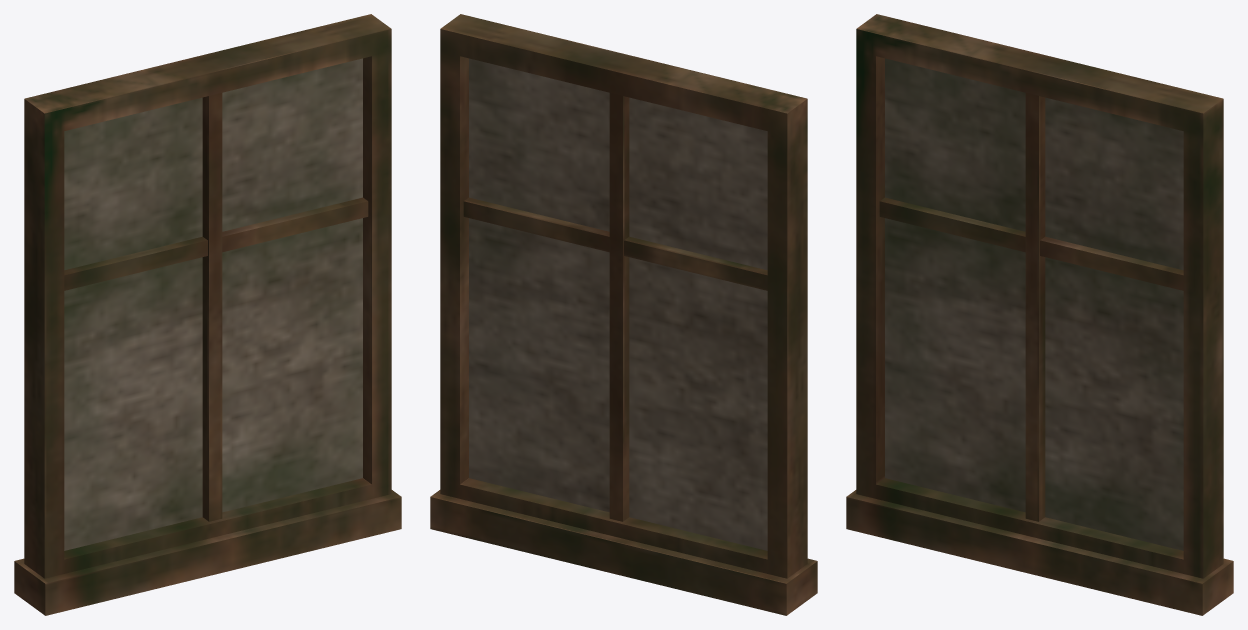
File: Finestra.glb
3 renders of one model, left to right at view 1: azimuth 30°, elevation 25°; view 2: azimuth 150°, elevation 25°; view 3: azimuth 330°, elevation 25°, orthographic.
Parts seen in each view (by area): view 1: Window_Small2_Cube.034; view 2: Window_Small2_Cube.034; view 3: Window_Small2_Cube.034.
Part boxes in pixels (<box>): Window_Small2_Cube.034: <box>14,14,401,615</box>; Window_Small2_Cube.034: <box>430,14,817,615</box>; Window_Small2_Cube.034: <box>846,14,1233,615</box>.
Size of the model in its own units: 0.9282 by 1.24 by 0.1411.
Materials: 2 (2 with a texture image).
